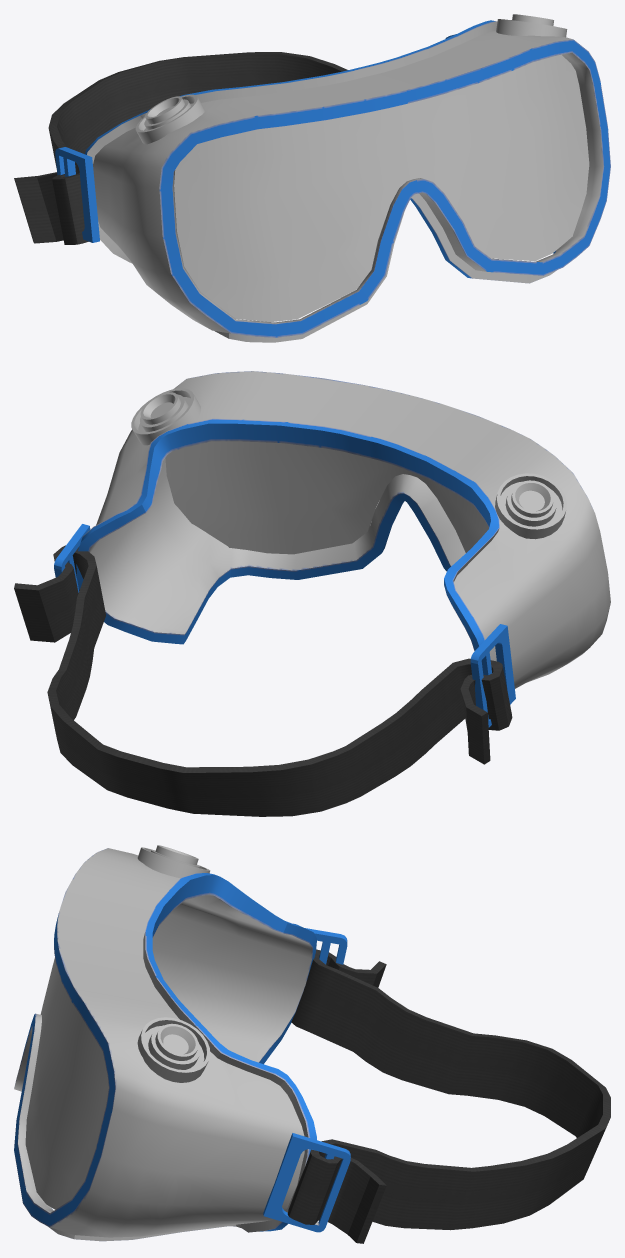
The model's file is SM_Glasses.fbx.
3 renders of one model, top to bottom at view 1: azimuth 30°, elevation 25°; view 2: azimuth 150°, elevation 25°; view 3: azimuth 270°, elevation 25°, orthographic. The views are drawn at different scales.
Visible parts, largest first — view 1: SM_Glasses_LOD0; view 2: SM_Glasses_LOD0; view 3: SM_Glasses_LOD0.
Part boxes in pixels (x1=…): SM_Glasses_LOD0: x1=14, y1=14, x2=610, y2=342; SM_Glasses_LOD0: x1=14, y1=371, x2=610, y2=816; SM_Glasses_LOD0: x1=14, y1=845, x2=610, y2=1243.
Bounding box in the file's own units: 25.76 × 27.3 × 11.85.
